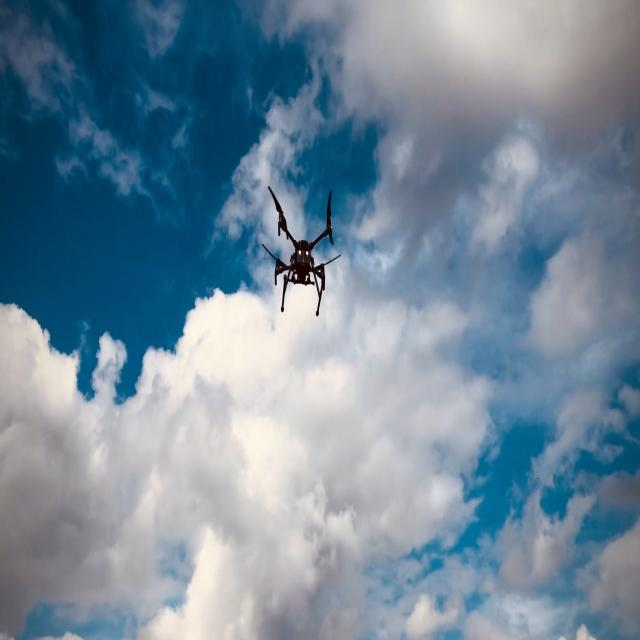drone: (261, 184, 341, 316)
